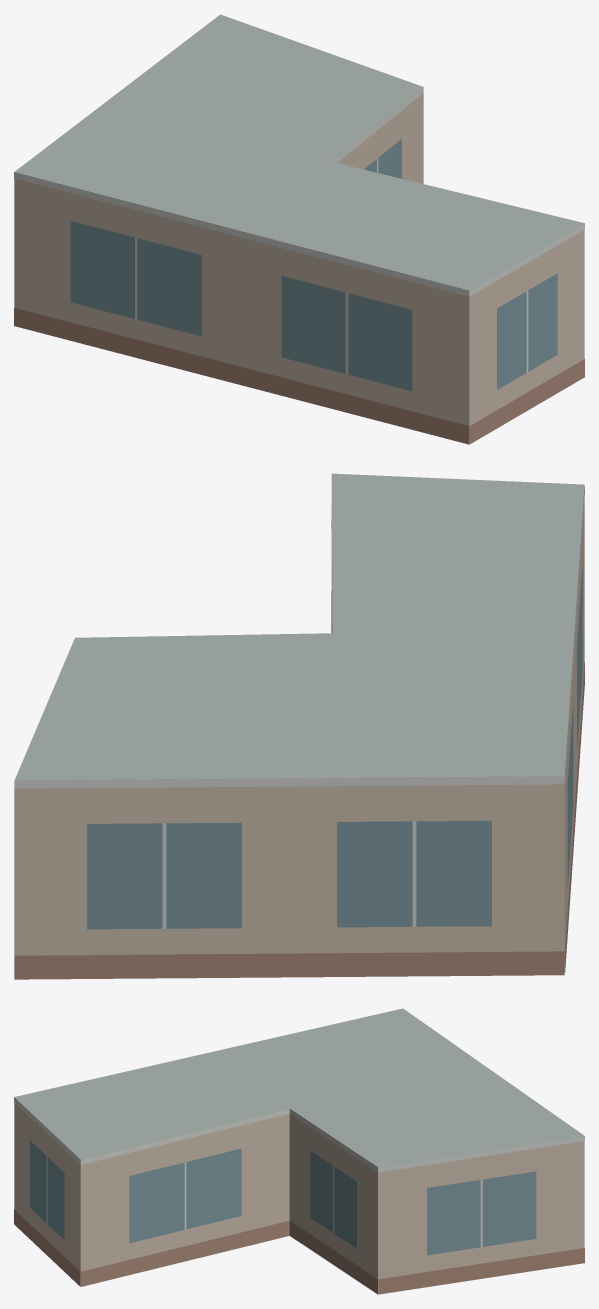
The model's file is survey-upis-32461257.glb.
3 renders of one model, top to bottom at view 1: azimuth 30°, elevation 25°; view 2: azimuth 150°, elevation 25°; view 3: azimuth 270°, elevation 25°, orthographic. The views are drawn at different scales.
Visible parts, largest first — view 1: survey-upis-32461257.tmp; view 2: survey-upis-32461257.tmp; view 3: survey-upis-32461257.tmp.
Boxes of the visible parts, <box> form: survey-upis-32461257.tmp: <box>14,14,584,444</box>; survey-upis-32461257.tmp: <box>14,473,584,979</box>; survey-upis-32461257.tmp: <box>14,1008,584,1294</box>.
Bounding box in the file's own units: 8.18 × 3.05 × 12.41.
